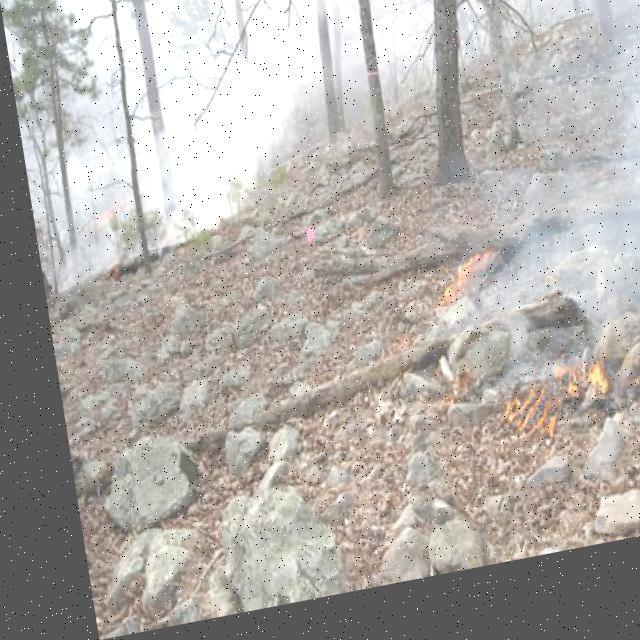Fire: (483, 364, 606, 466), (418, 258, 502, 328)
